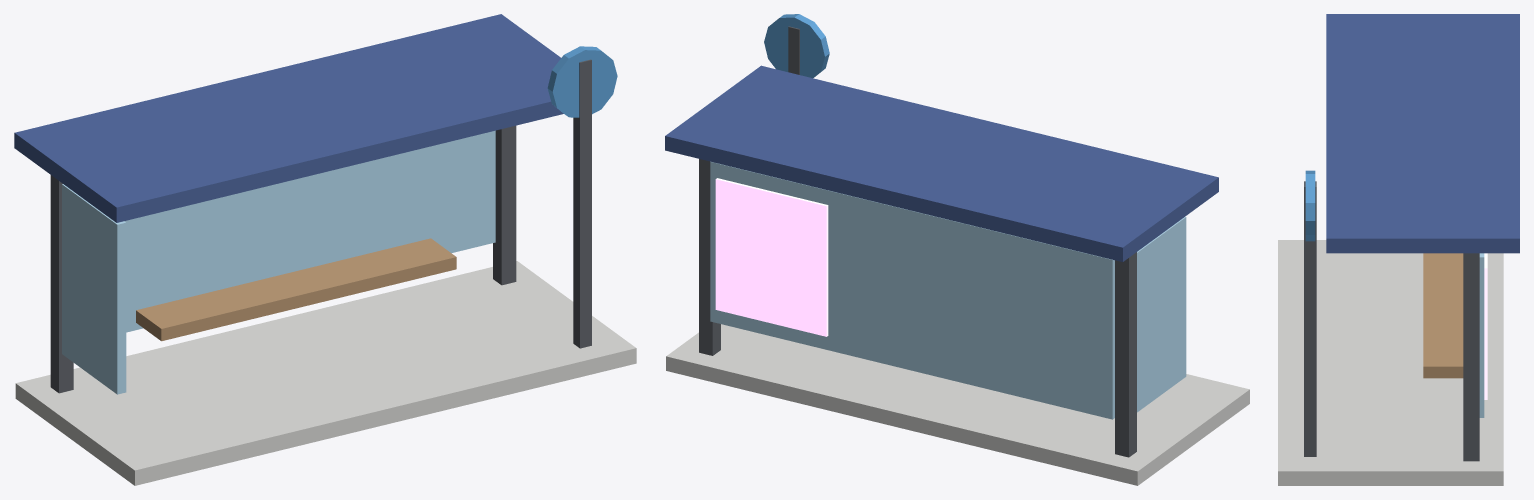
File: bus_stop.glb
3 views of the same model, side by side, from view 1: azimuth 30°, elevation 25°; view 2: azimuth 150°, elevation 25°; view 3: azimuth 270°, elevation 25° (orthographic). The views are drawn at different scales.
Parts seen in each view (by area): view 1: bus_stop_body; view 2: bus_stop_body; view 3: bus_stop_body.
Part boxes in pixels (box(x1,y1,x2,y2)): bus_stop_body: box(14, 14, 636, 485); bus_stop_body: box(665, 14, 1249, 485); bus_stop_body: box(1278, 14, 1519, 485).
Bounding box in the file's own units: 0.34 × 0.202 × 0.15.
